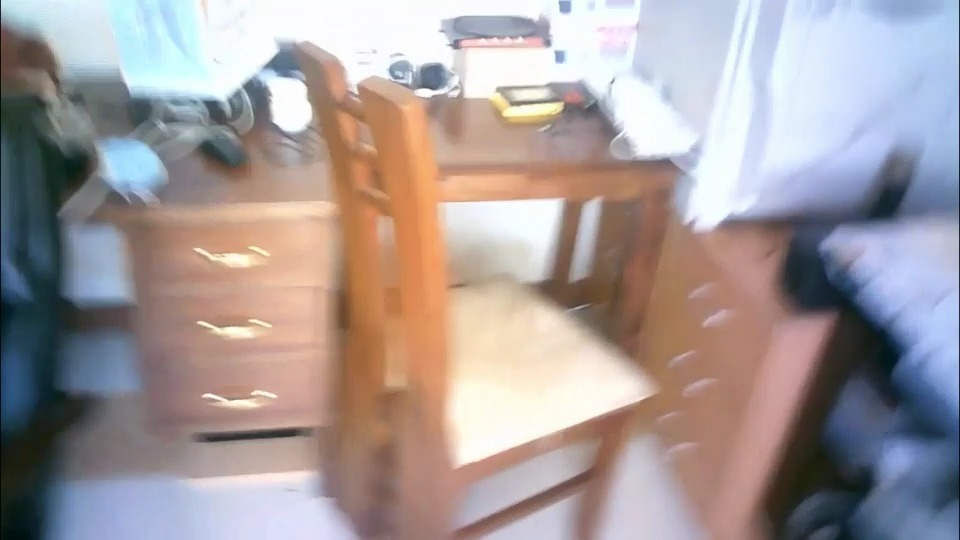wheat_flour_blue_label: (109, 0, 282, 99)
